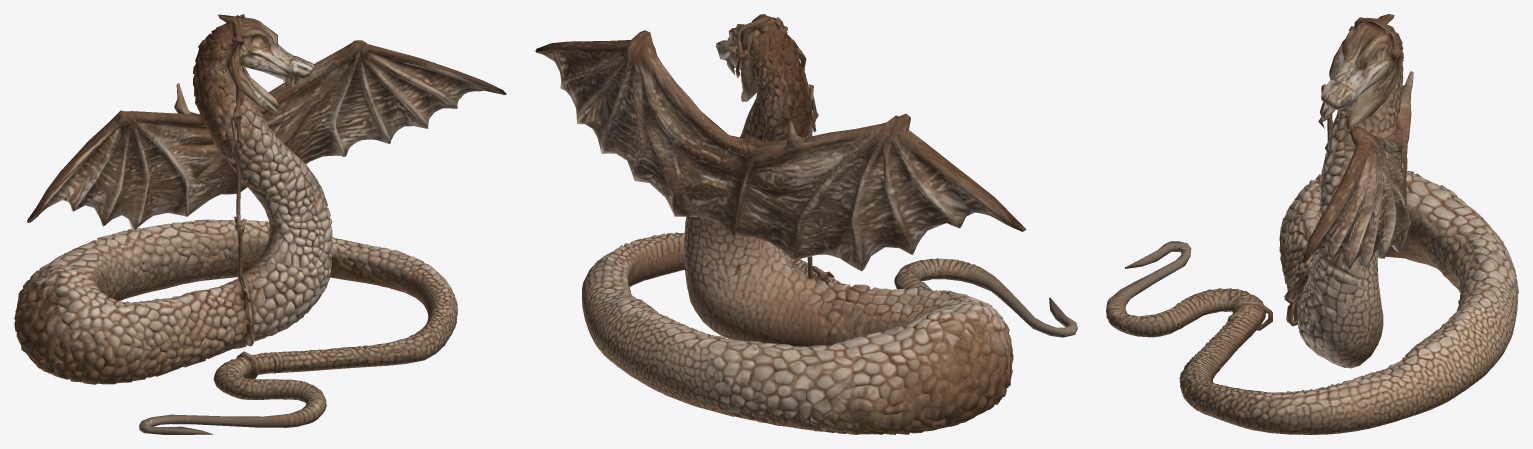
The model's file is serpienteAlas.obj.
The picture shows the model from 3 angles, left to right: view 1: azimuth 30°, elevation 25°; view 2: azimuth 150°, elevation 25°; view 3: azimuth 270°, elevation 25°; orthographic projection. The views are drawn at different scales.
Parts seen in each view (by area): view 1: serpienteAlas; view 2: serpienteAlas; view 3: serpienteAlas.
Part boxes in pixels (x1=…): serpienteAlas: x1=14, y1=14, x2=506, y2=434; serpienteAlas: x1=535, y1=14, x2=1077, y2=434; serpienteAlas: x1=1106, y1=14, x2=1518, y2=434.
Size of the model in its own units: 1.92 by 1.24 by 1.38.
